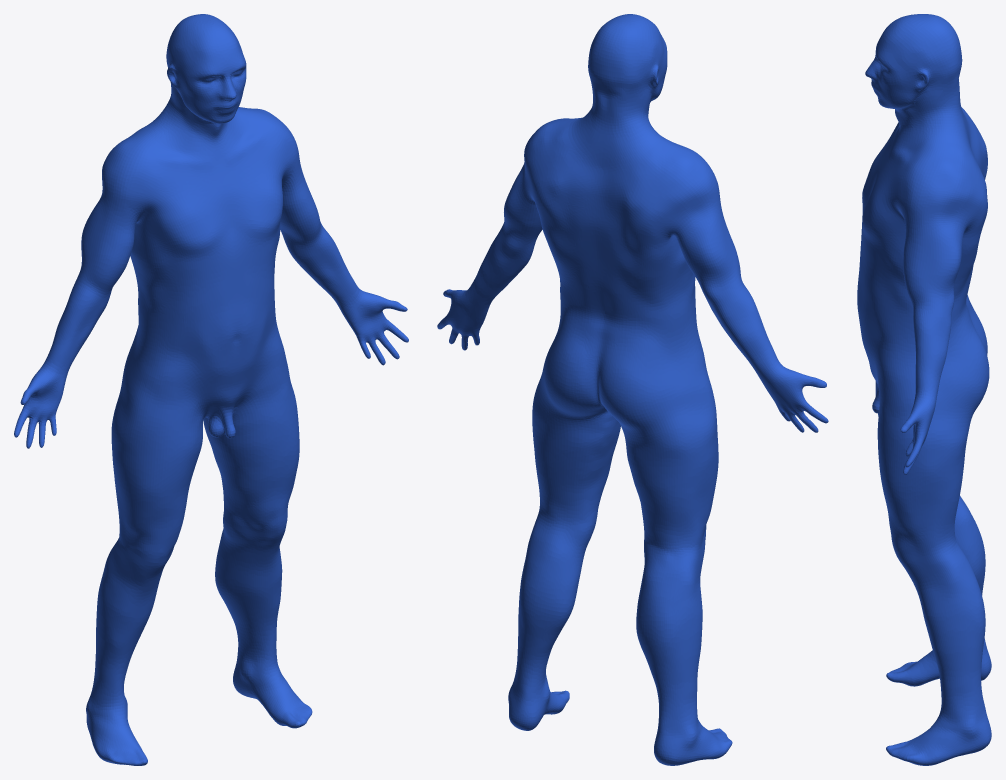
Rendered from VH_M_Skin_0.4.glb.
3 views of the same model, side by side, from view 1: azimuth 30°, elevation 25°; view 2: azimuth 150°, elevation 25°; view 3: azimuth 270°, elevation 25° (orthographic). The views are drawn at different scales.
Visible parts, largest first — view 1: VH_M_skin; view 2: VH_M_skin; view 3: VH_M_skin.
Part boxes in pixels (x1,y1,x2,y2): VH_M_skin: (14, 14, 408, 765); VH_M_skin: (437, 14, 828, 765); VH_M_skin: (857, 14, 991, 765).
Bounding box in the file's own units: 1.05 × 1.83 × 0.3162.
